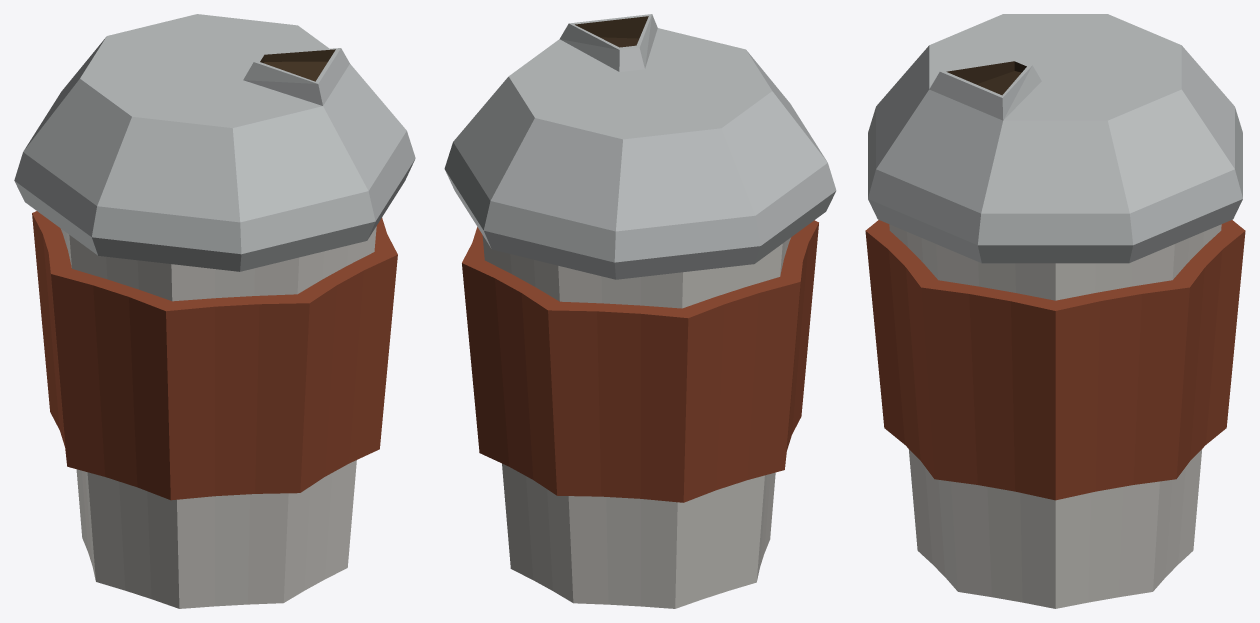
File: takeaway-coffee-cup-1fd6dd.glb
The picture shows the model from 3 angles, left to right: view 1: azimuth 30°, elevation 25°; view 2: azimuth 150°, elevation 25°; view 3: azimuth 270°, elevation 25°; orthographic projection. The views are drawn at different scales.
Parts seen in each view (by area): view 1: lid, sleeve, takeaway-coffee-cup; view 2: lid, sleeve, takeaway-coffee-cup; view 3: lid, sleeve, takeaway-coffee-cup.
Part boxes in pixels (x1,y1,x2,y2): lid: (14,14,415,271); sleeve: (32,211,397,500); takeaway-coffee-cup: (60,226,376,608); lid: (444,14,836,279); sleeve: (462,220,818,502); takeaway-coffee-cup: (482,235,790,608); lid: (868,14,1242,263); sleeve: (865,220,1245,500); takeaway-coffee-cup: (889,224,1221,608).
Bounding box in the file's own units: 0.0855 × 0.1245 × 0.0855.
